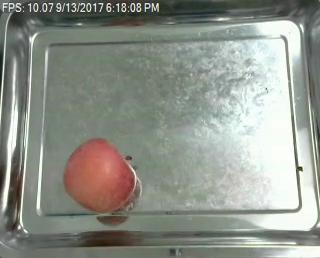apple: (62, 136, 139, 212)
